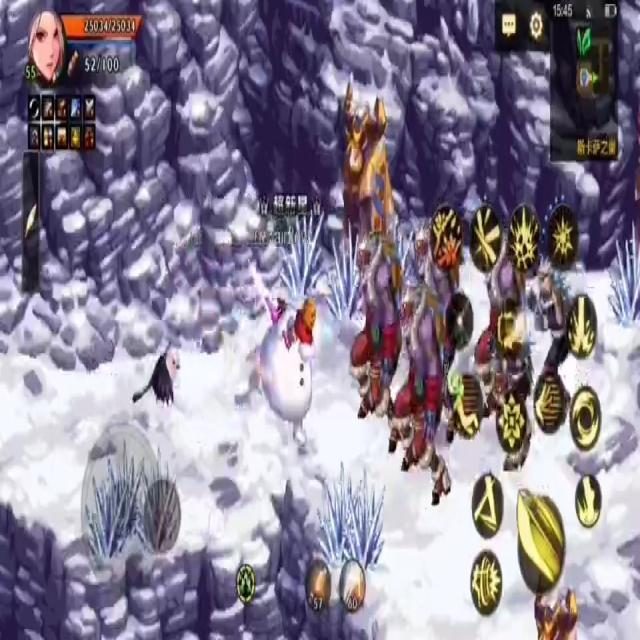player: (257, 279, 315, 454)
